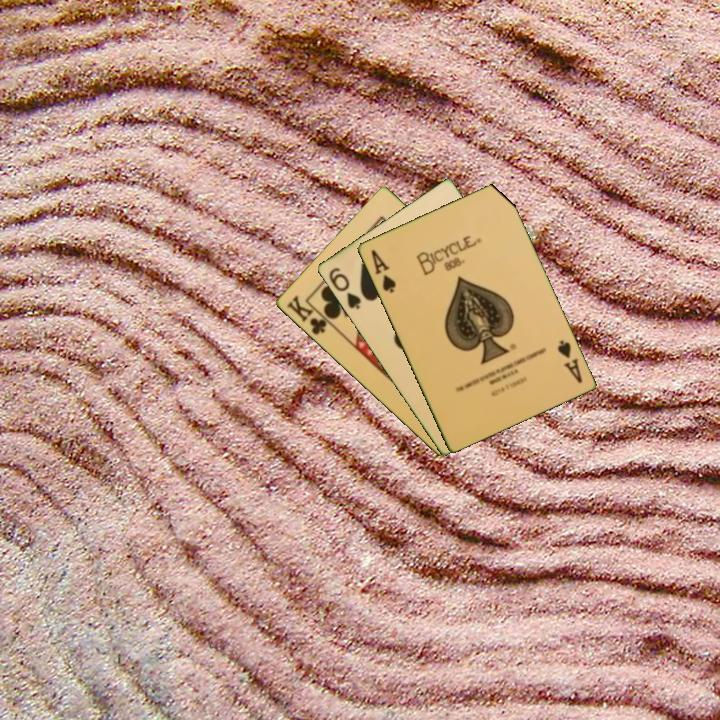6s: (325, 264, 364, 312)
As: (367, 246, 399, 296), (553, 336, 585, 386)
Kc: (282, 291, 335, 338)
